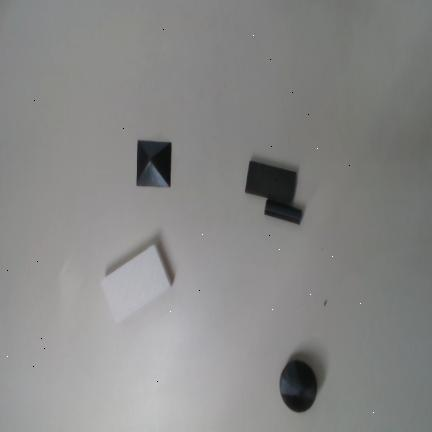Cilindro: (265, 200, 302, 225)
Esfera: (279, 360, 317, 413)
Paralelepipedo: (101, 245, 173, 322), (245, 161, 297, 205)
Piramide: (136, 140, 172, 187)
